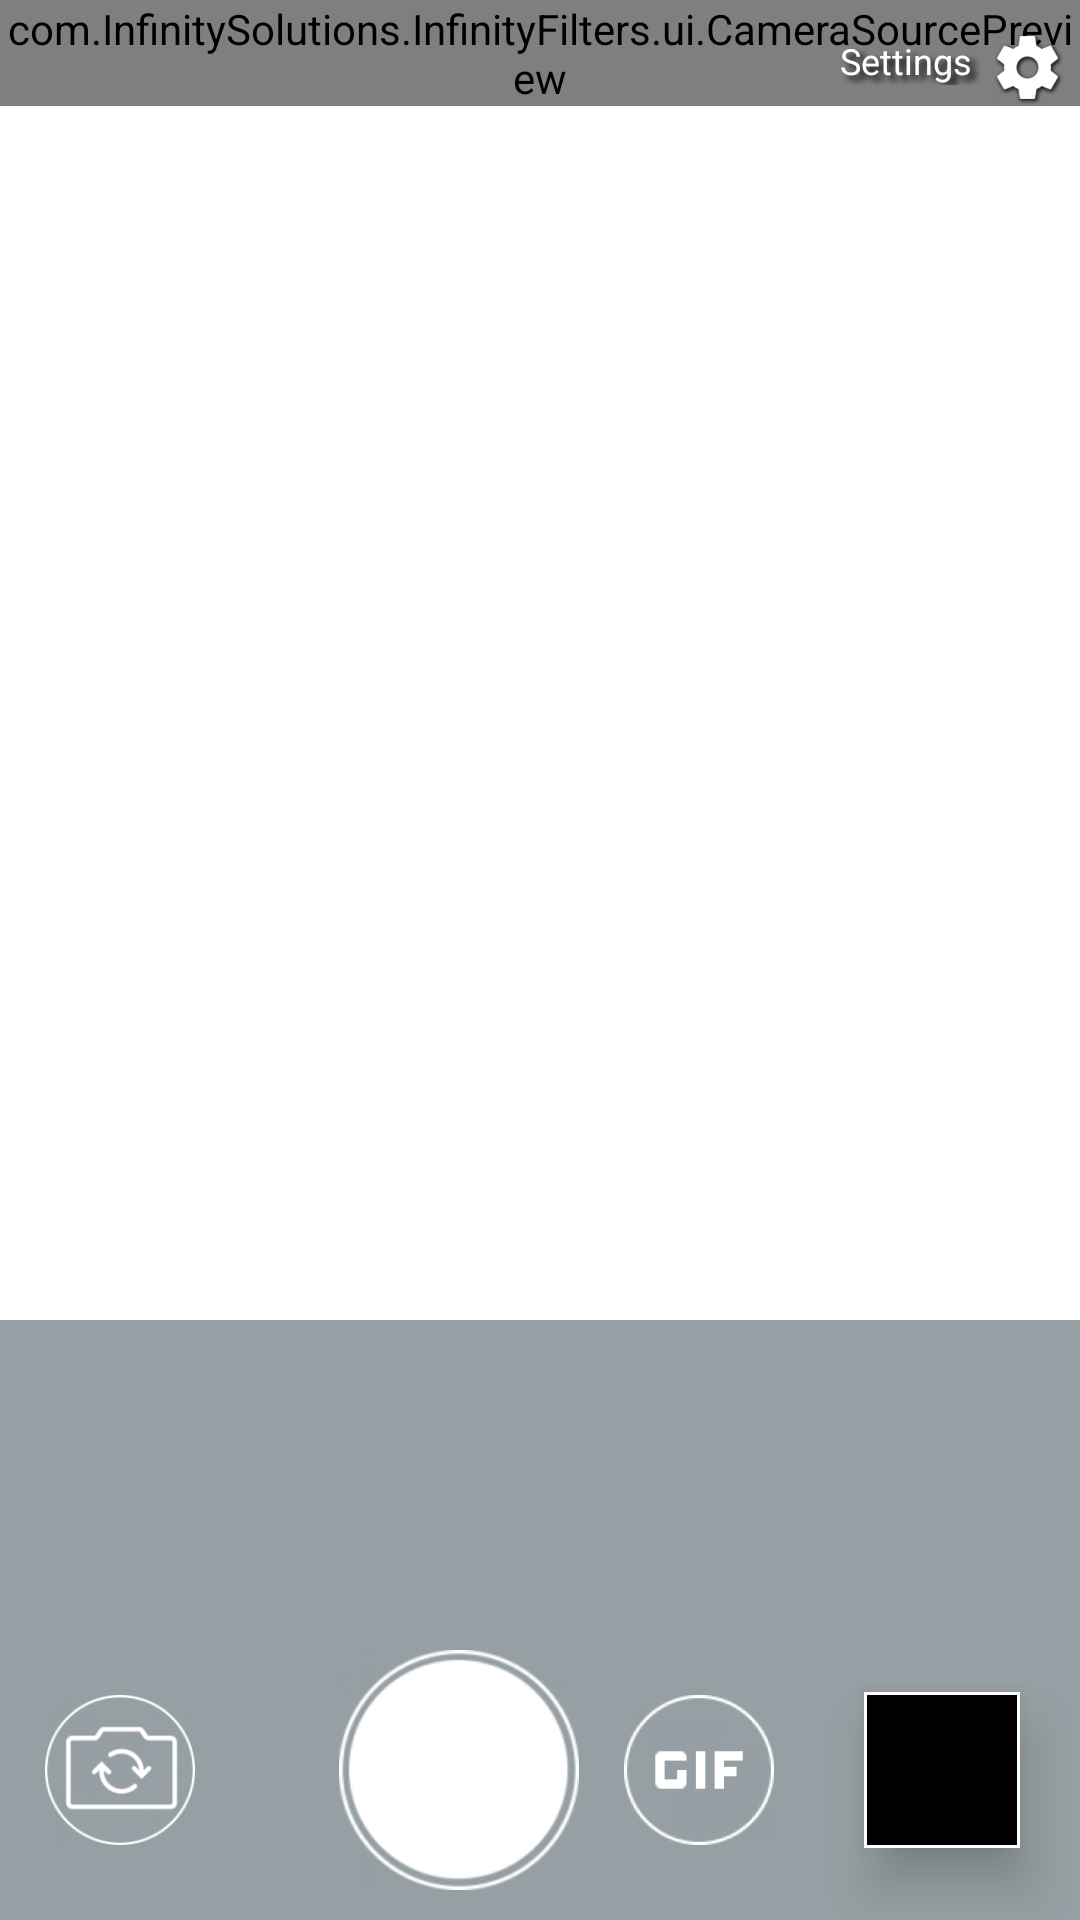

Icon bounding boxes for this 1080 x 1920 phone screenshot, format (x1, y1, x2, y2):
camera switch: (45, 1695, 195, 1845)
capture: (339, 1650, 579, 1890)
